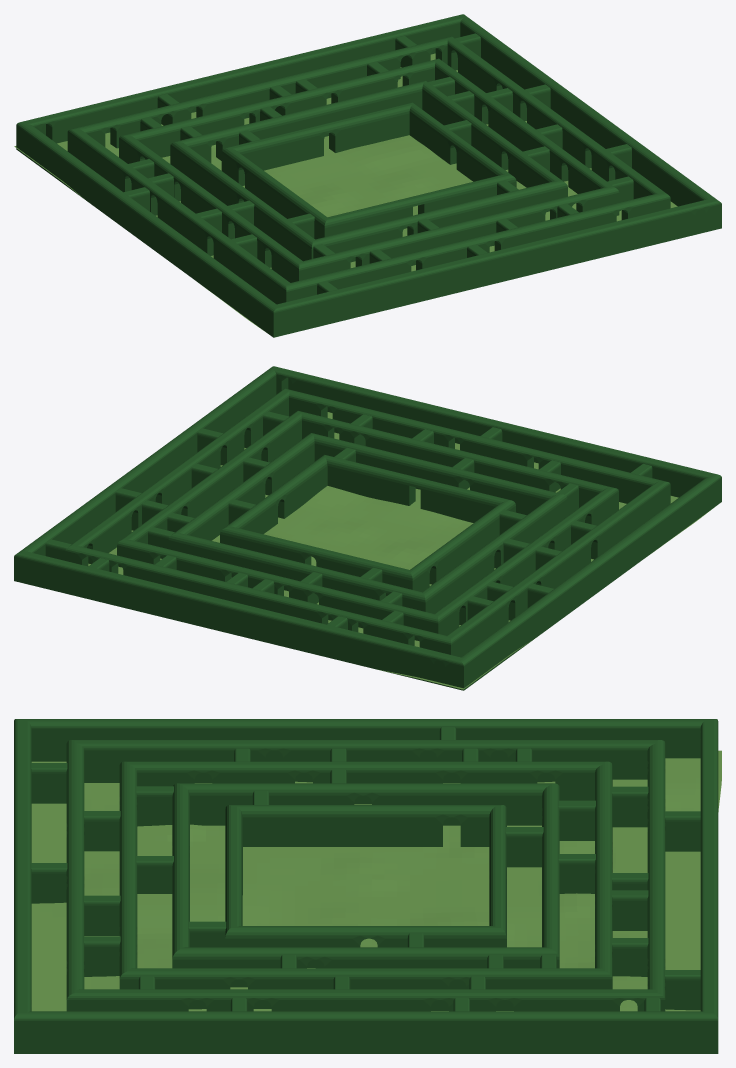
File: Maze 5.fbx
The picture shows the model from 3 angles, top to bottom: view 1: azimuth 30°, elevation 25°; view 2: azimuth 150°, elevation 25°; view 3: azimuth 270°, elevation 25°; orthographic projection. The views are drawn at different scales.
Parts seen in each view (by area): view 1: Walls 1.005, Walls 2.005, Walls 3.005, Walls 4.006, Walls 5.005, Floor.006; view 2: Walls 1.005, Walls 2.005, Walls 3.005, Walls 4.006, Walls 5.005, Floor.006; view 3: Walls 1.005, Floor.006, Walls 2.005, Walls 3.005, Walls 4.006, Walls 5.005, Bush Blocker.139, Bush Blocker.134, Bush Blocker.137, Bush Blocker.113, Bush Blocker.111, Bush Blocker.112 (+11 smaller).
Boxes of the visible parts, x1,y1,x2,y2 form: Walls 1.005: [16, 14, 721, 337]; Walls 2.005: [67, 36, 670, 304]; Walls 3.005: [119, 58, 619, 282]; Walls 4.006: [170, 80, 567, 262]; Walls 5.005: [221, 102, 516, 239]; Floor.006: [14, 53, 677, 331]; Walls 1.005: [14, 366, 721, 690]; Walls 2.005: [65, 388, 670, 657]; Walls 3.005: [117, 411, 618, 640]; Walls 4.006: [168, 433, 567, 613]; Walls 5.005: [220, 455, 515, 596]; Floor.006: [88, 412, 714, 689]; Walls 1.005: [14, 719, 718, 1053]; Floor.006: [31, 750, 721, 1011]; Walls 2.005: [66, 740, 665, 1011]; Walls 3.005: [119, 761, 612, 1010]; Walls 4.006: [172, 783, 559, 989]; Walls 5.005: [225, 805, 506, 968]; Bush Blocker.139: [611, 786, 648, 827]; Bush Blocker.134: [558, 800, 595, 840]; Bush Blocker.137: [611, 890, 648, 930]; Bush Blocker.113: [84, 895, 120, 935]; Bush Blocker.111: [31, 763, 67, 803]; Bush Blocker.112: [84, 811, 120, 851].
Size of the model in its own units: 6009 by 368 by 5992.
